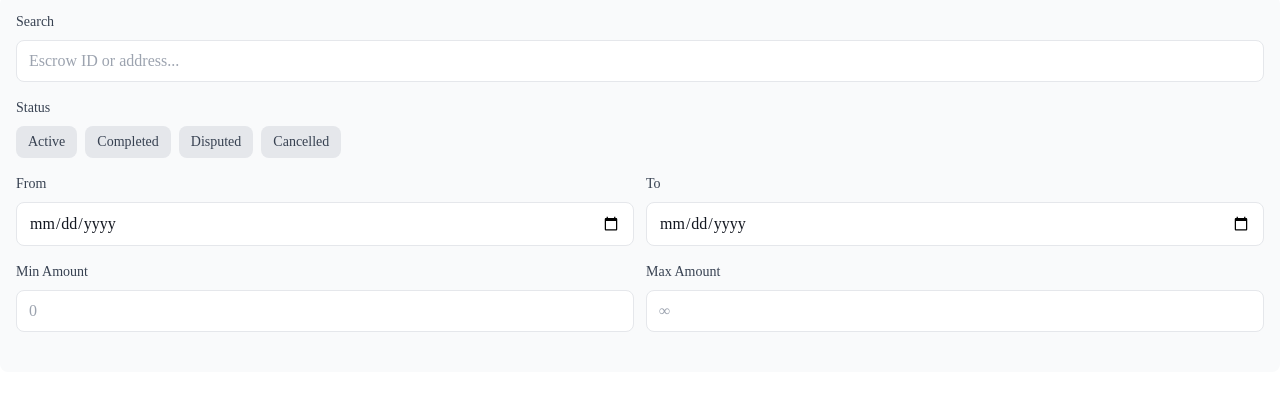
Test case: EscrowFilters › displays correct filter badge count
The width and height of the screenshot is (1280, 401).
Type "test" into the field with test id "search-input" at (640,61), box [16, 40, 1264, 82]
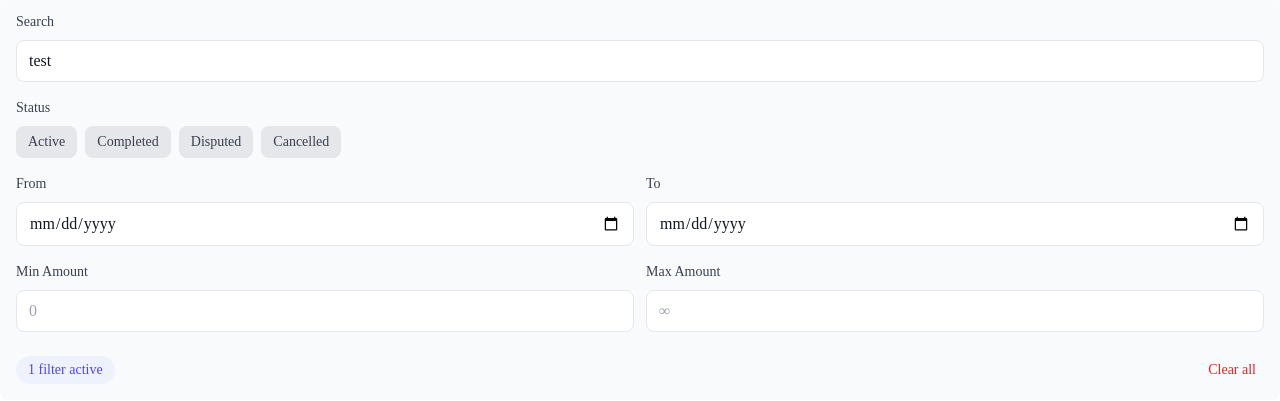
Click the button with test id "status-Active" at (47,142), box [16, 126, 77, 158]
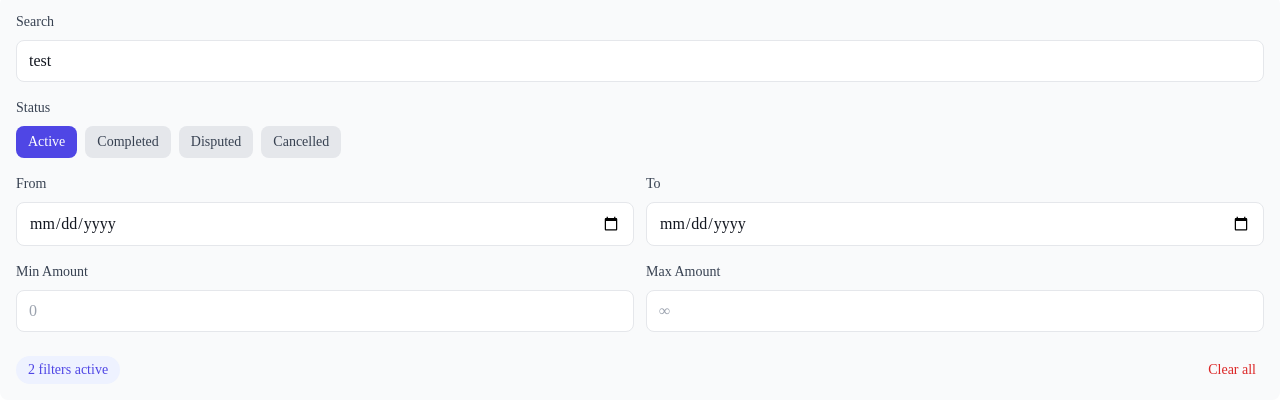
Expected: the text with test id "filter-badge" reads "2 filters active", [16, 356, 120, 384]
